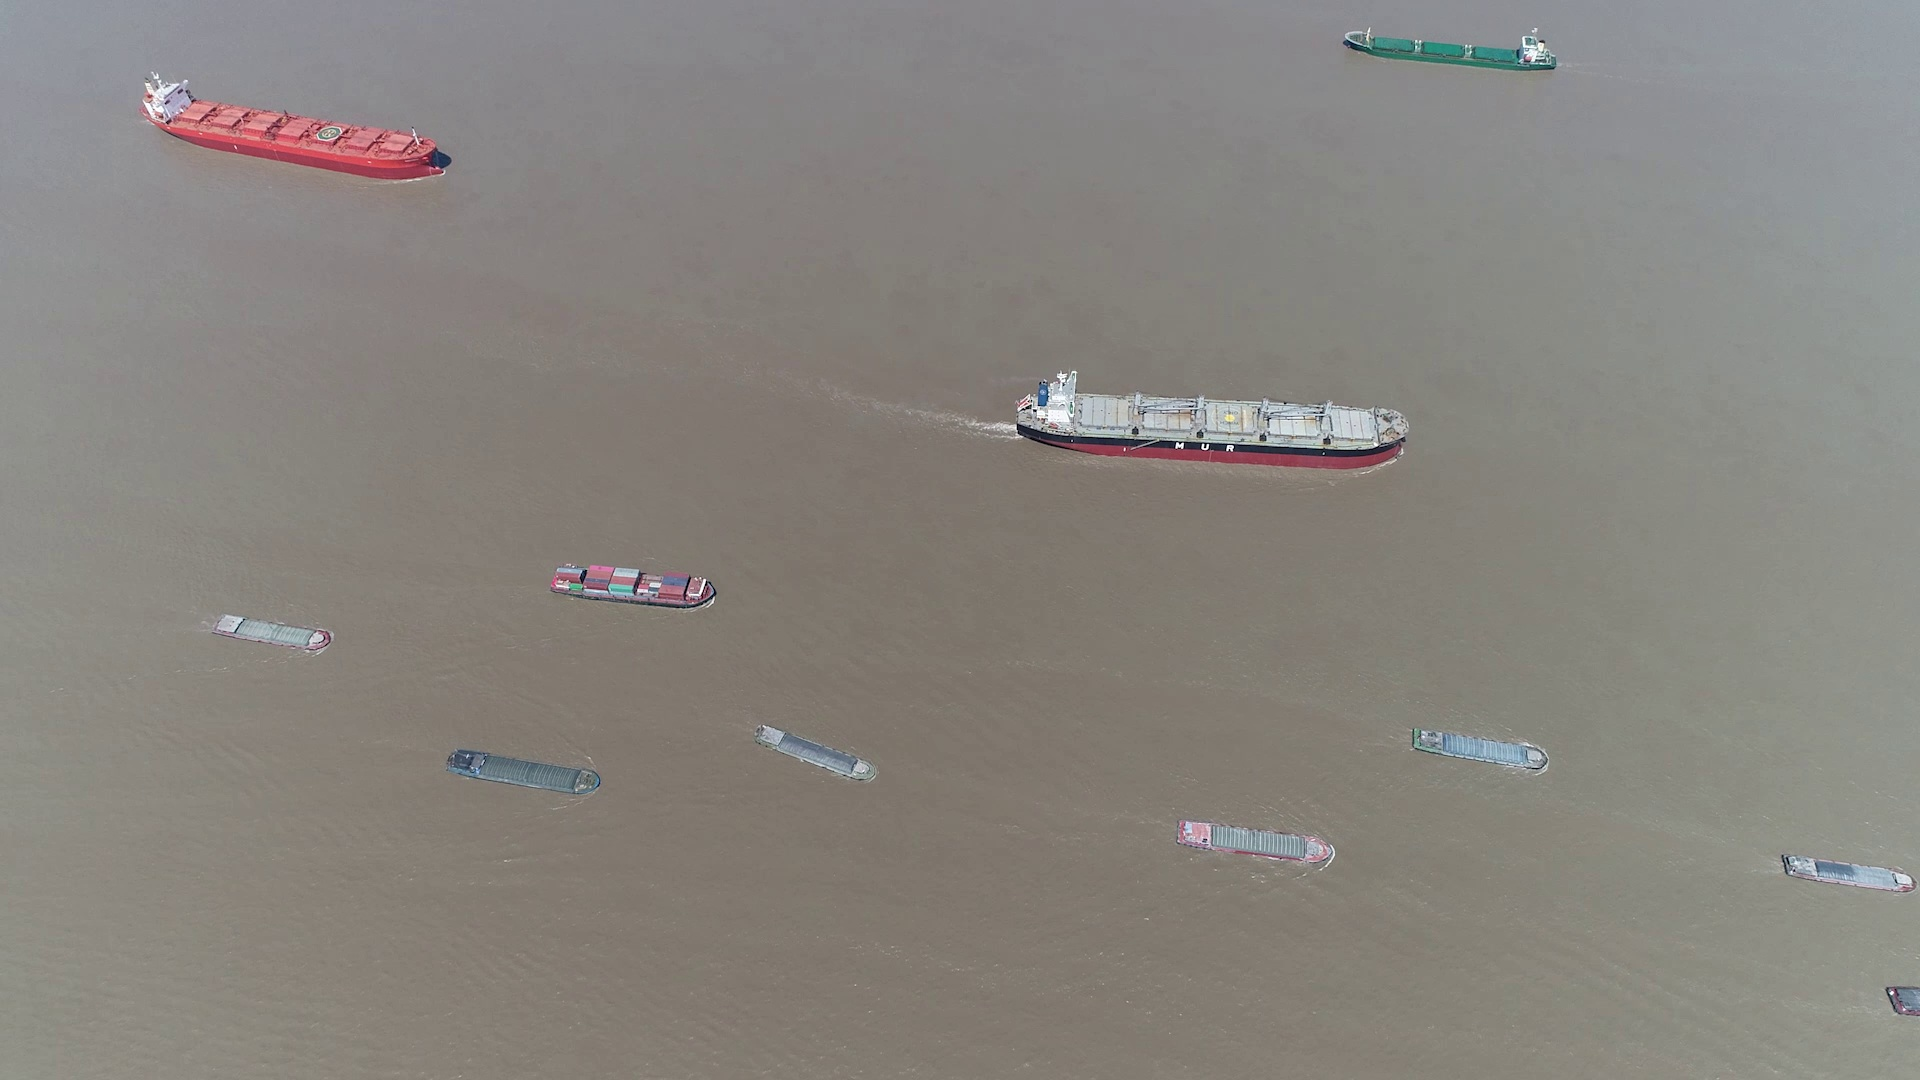ship: (1017, 377, 1411, 471), (142, 73, 447, 177), (1341, 26, 1555, 71), (551, 564, 717, 609), (756, 723, 876, 785), (448, 750, 603, 796), (1179, 822, 1335, 864), (1408, 728, 1549, 771), (1780, 855, 1915, 893), (214, 612, 331, 651), (1886, 986, 1920, 1018)
